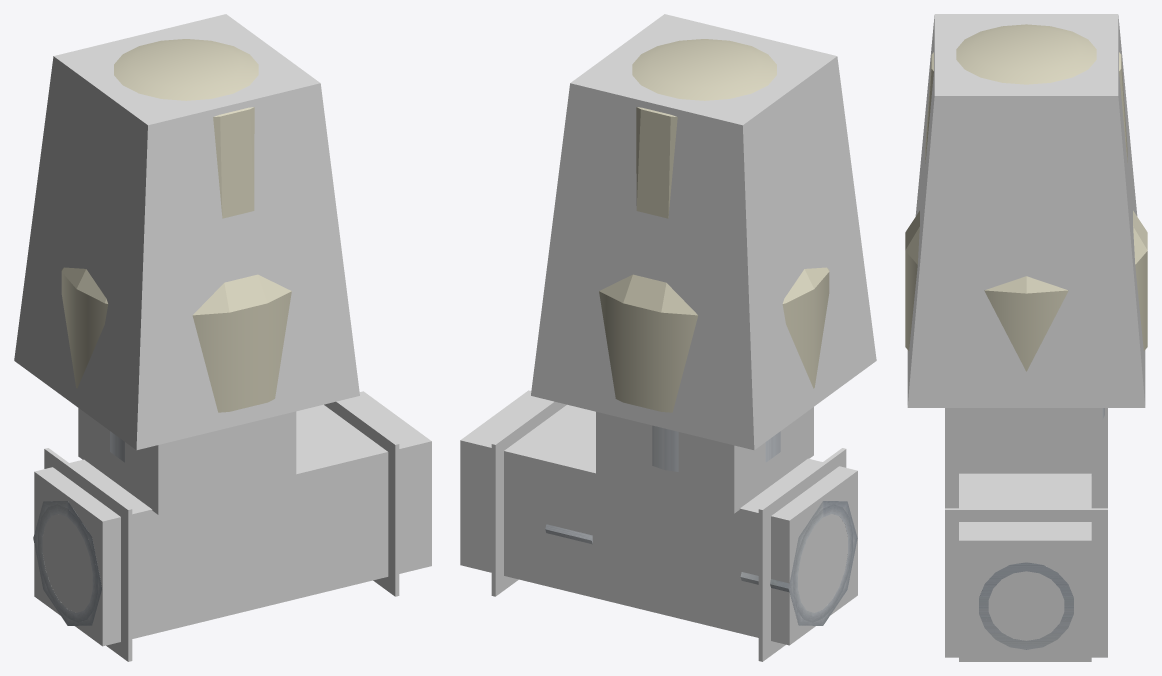
Rendered from termo_regul_1s2.FBX.
The picture shows the model from 3 angles, left to right: view 1: azimuth 30°, elevation 25°; view 2: azimuth 150°, elevation 25°; view 3: azimuth 270°, elevation 25°; orthographic projection. The views are drawn at different scales.
Parts seen in each view (by area): view 1: termoreg_COL, termoreg, Box002_est_001, Box001_est_001; view 2: termoreg_COL, termoreg, Box002_est_001, Box001_est_001; view 3: termoreg_COL, termoreg, Box001_est_001, Box002_est_001.
Part boxes in pixels (x1,y1,x2,y2): termoreg_COL: (14,14,431,646); termoreg: (33,39,291,625); Box002_est_001: (44,448,132,661); Box001_est_001: (324,401,399,596); termoreg_COL: (460,14,876,645); termoreg: (545,39,857,625); Box002_est_001: (758,448,846,661); Box001_est_001: (491,400,566,596); termoreg_COL: (907,14,1145,661); termoreg: (905,24,1147,649); Box001_est_001: (945,508,1107,657); Box002_est_001: (945,408,1107,508).
Bounding box in the file's own units: 0.0817 × 0.1285 × 0.0536.
4 materials, 2 textured.
